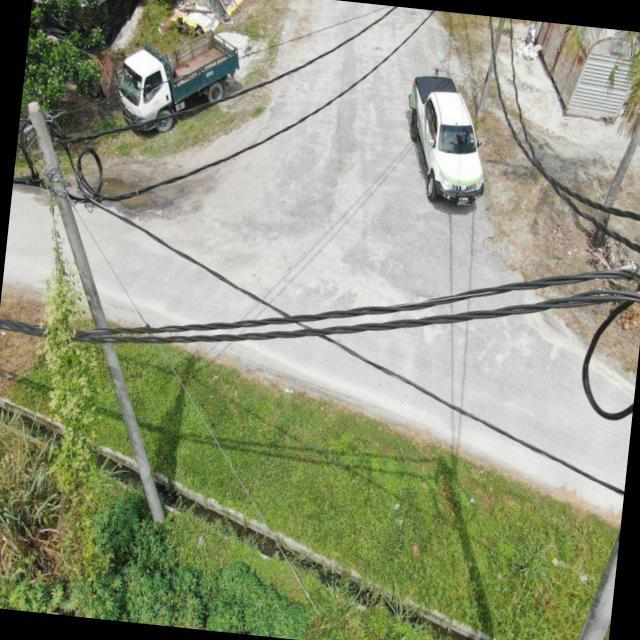critical vegetation: (0, 148, 138, 565)
